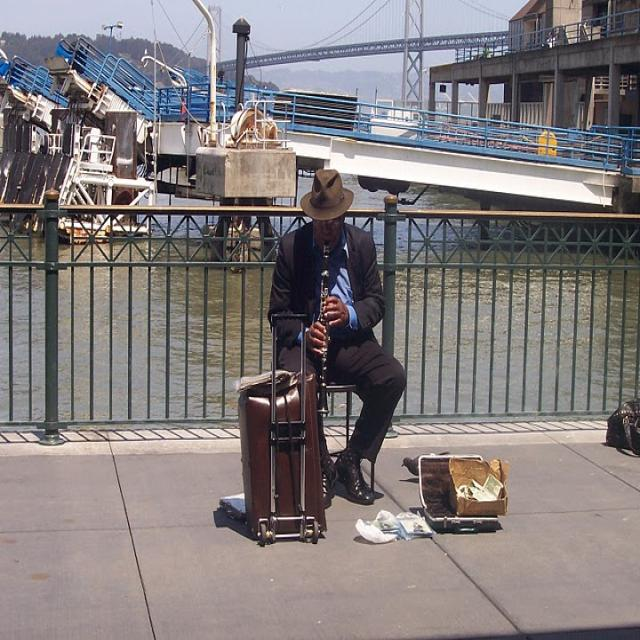clarinet: (316, 237, 331, 418)
